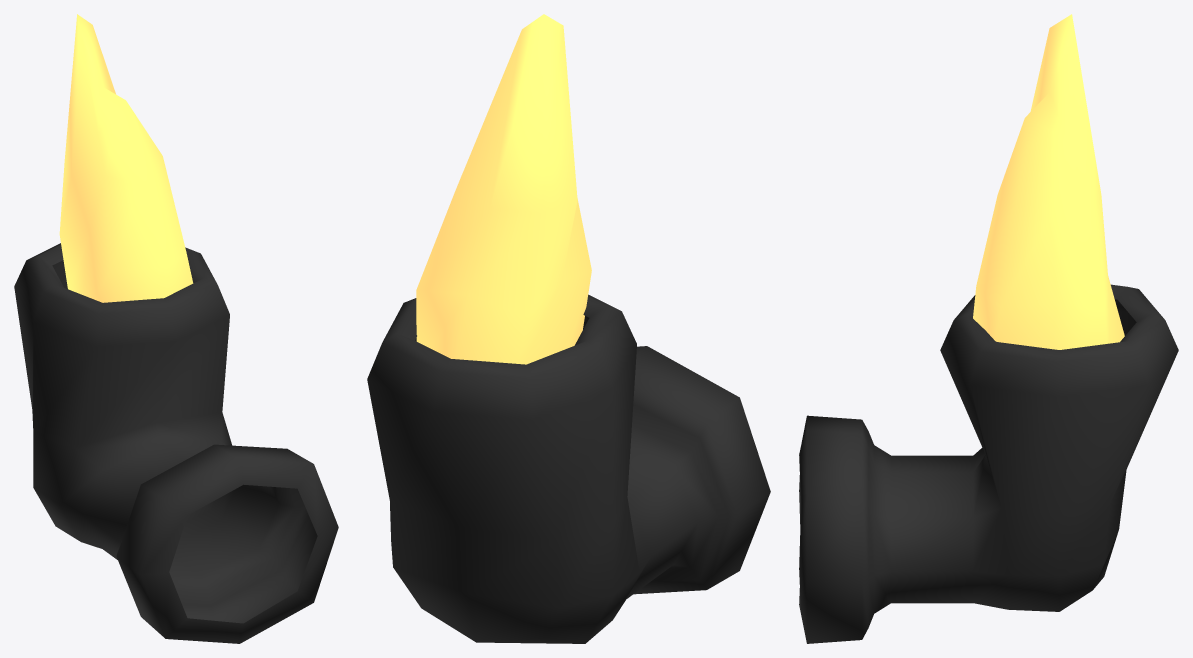
File: CrystalLantern.fbx
The picture shows the model from 3 angles, left to right: view 1: azimuth 30°, elevation 25°; view 2: azimuth 150°, elevation 25°; view 3: azimuth 270°, elevation 25°; orthographic projection. The views are drawn at different scales.
Visible parts, largest first — view 1: Box002; view 2: Box002; view 3: Box002.
Boxes of the visible parts, x1,y1,x2,y2 form: Box002: [14, 14, 338, 643]; Box002: [367, 14, 770, 643]; Box002: [799, 14, 1178, 643].
Bounding box in the file's own units: 28.38 × 75.37 × 43.62.
